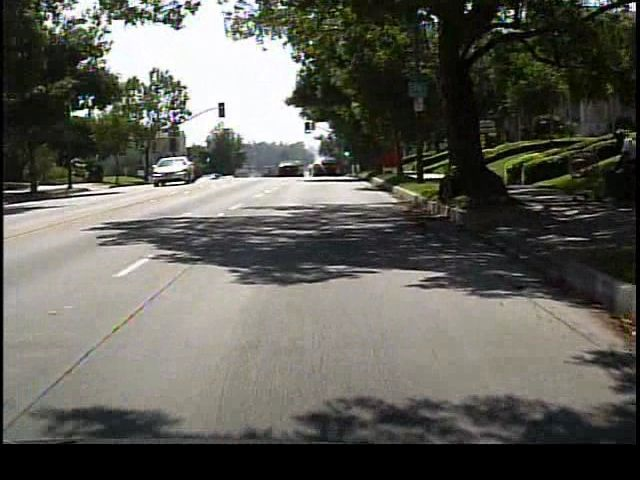person: (603, 125, 636, 218)
